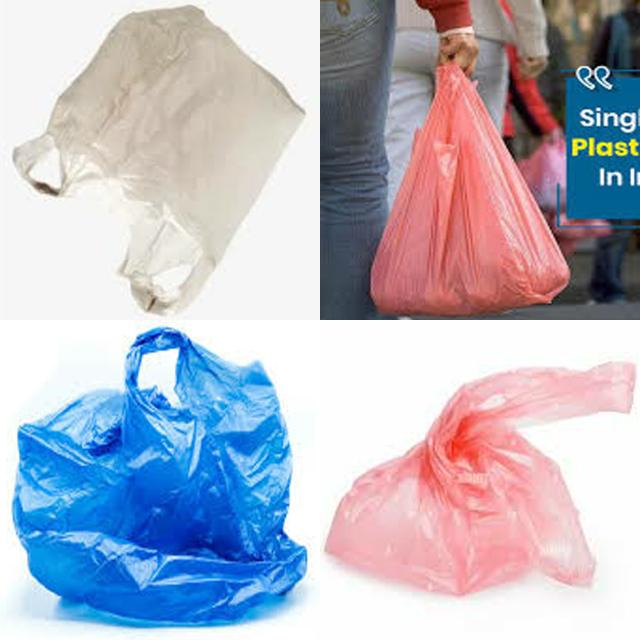Single-layer Plastic: (14, 6, 304, 314), (12, 328, 305, 624), (326, 362, 635, 594), (371, 64, 570, 316)
